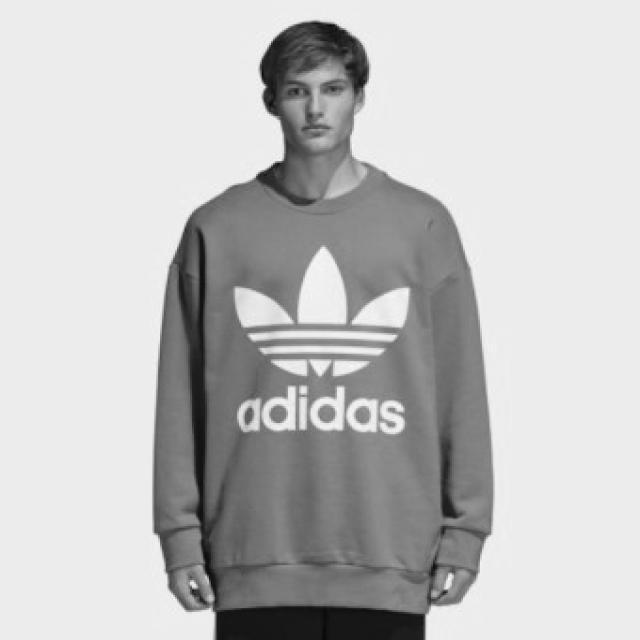Adidas: (226, 236, 418, 382)
